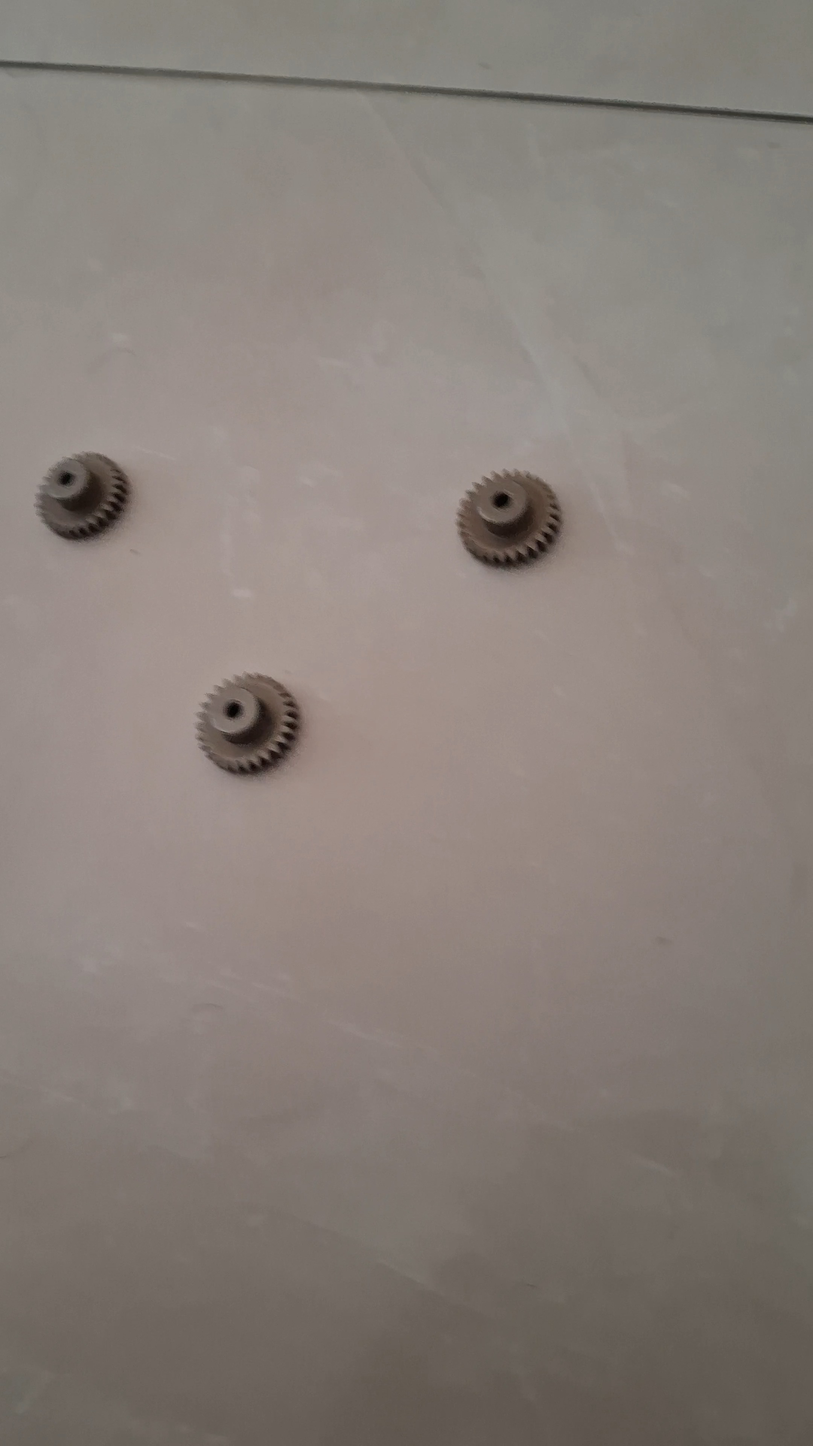spur gear: (197, 674, 299, 773), (457, 472, 561, 566), (37, 453, 128, 538)
